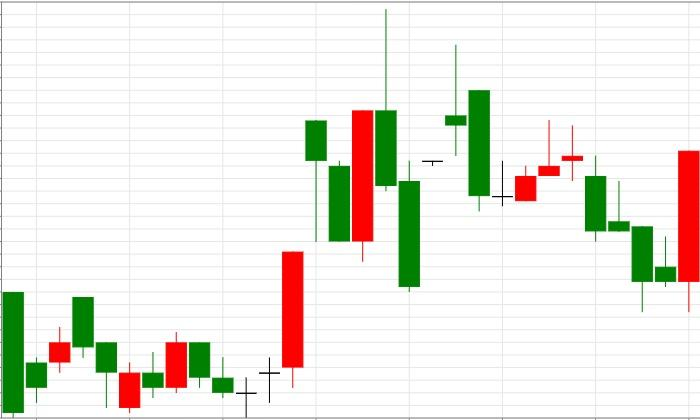bullish_engulfing_rise: (562, 126, 700, 312)
